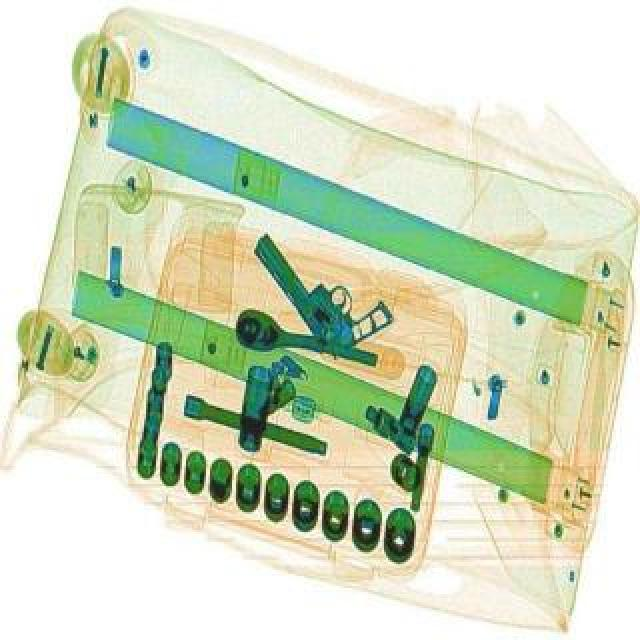gun: (246, 206, 394, 360)
